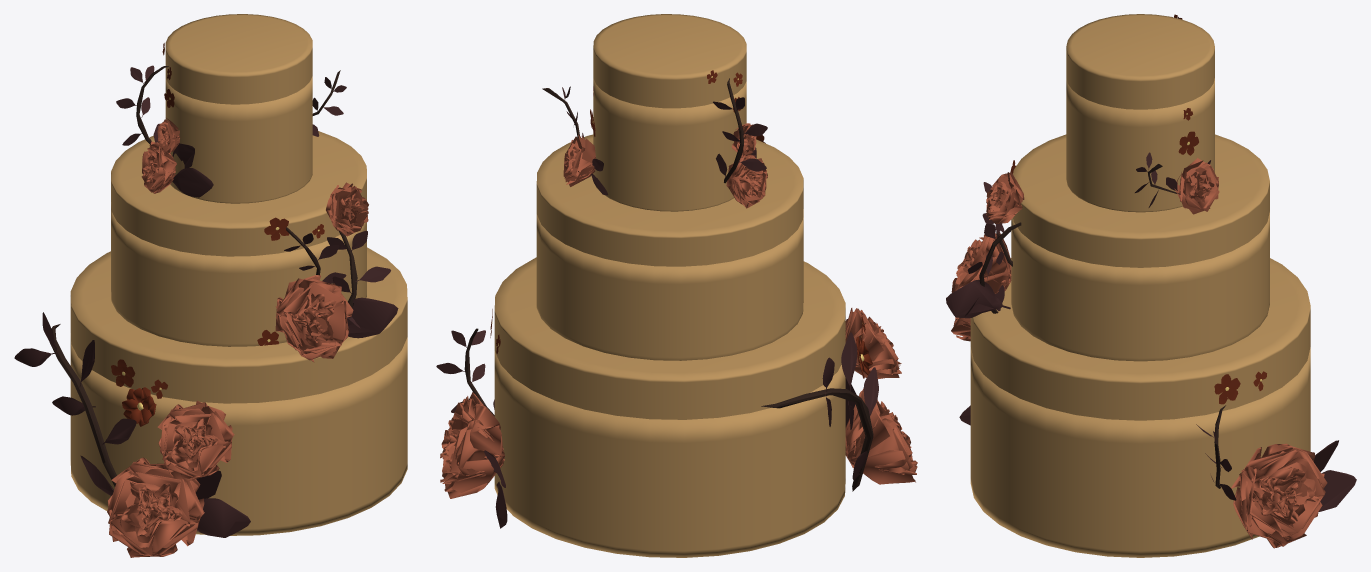
File: 3-tier-caramel-roses-none.glb
The picture shows the model from 3 angles, left to right: view 1: azimuth 30°, elevation 25°; view 2: azimuth 150°, elevation 25°; view 3: azimuth 270°, elevation 25°; orthographic projection. The views are drawn at different scales.
Visible parts, largest first — view 1: Cylinder.022, Cylinder.014, Cylinder.021, grid.042, grid.044, grid.040, Plane.093, grid.043, Plane.087, Plane.091, Plane.095, grid.045 (+7 smaller); view 2: Cylinder.022, Cylinder.014, Cylinder.021, grid.029, grid.042, Plane.093, grid.040, grid.045, Plane.092, grid.047, Plane.084; view 3: Cylinder.022, Cylinder.014, Cylinder.021, grid.029, grid.044, grid.047, Plane.087, grid.043, Plane.095, Plane.082, Plane.084, Plane.078 (+1 smaller).
Part boxes in pixels (x1,y1,x2,y2): Cylinder.022: (70, 247, 407, 535); Cylinder.014: (111, 131, 366, 346); Cylinder.021: (165, 14, 312, 203); grid.042: (107, 457, 204, 557); grid.044: (275, 275, 353, 362); grid.040: (157, 400, 234, 481); Plane.093: (14, 312, 136, 495); grid.043: (326, 182, 368, 236); Plane.087: (347, 297, 398, 338); Plane.091: (197, 498, 250, 537); Plane.095: (327, 230, 390, 328); grid.045: (141, 141, 176, 193); Cylinder.022: (494, 257, 845, 557); Cylinder.014: (536, 134, 803, 360); Cylinder.021: (593, 14, 746, 211); grid.029: (440, 392, 504, 498); grid.042: (845, 388, 917, 484); Plane.093: (761, 332, 878, 491); grid.040: (845, 308, 901, 378); grid.045: (726, 155, 767, 208); Plane.092: (713, 78, 767, 183); grid.047: (563, 135, 595, 186); Plane.084: (436, 328, 494, 416); Cylinder.022: (970, 258, 1310, 557); Cylinder.014: (1011, 134, 1269, 361); Cylinder.021: (1066, 14, 1214, 212); grid.029: (1231, 443, 1327, 548); grid.044: (951, 232, 1011, 293); grid.047: (1174, 158, 1219, 214); Plane.087: (946, 279, 1010, 318); grid.043: (986, 172, 1024, 223); Plane.095: (965, 222, 1021, 316); Plane.082: (1318, 470, 1356, 511); Plane.084: (1196, 405, 1236, 500); Plane.078: (1135, 152, 1180, 207).
Bounding box in the file's own units: 5.28 × 5.83 × 4.9.
